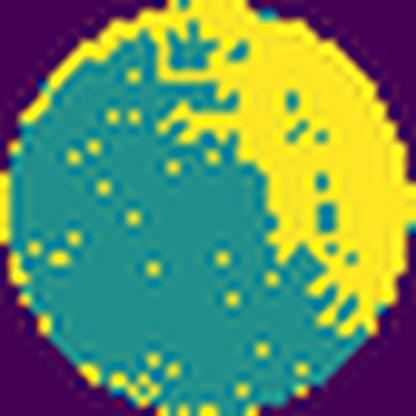Edge-Loc: (30, 0, 415, 336)
